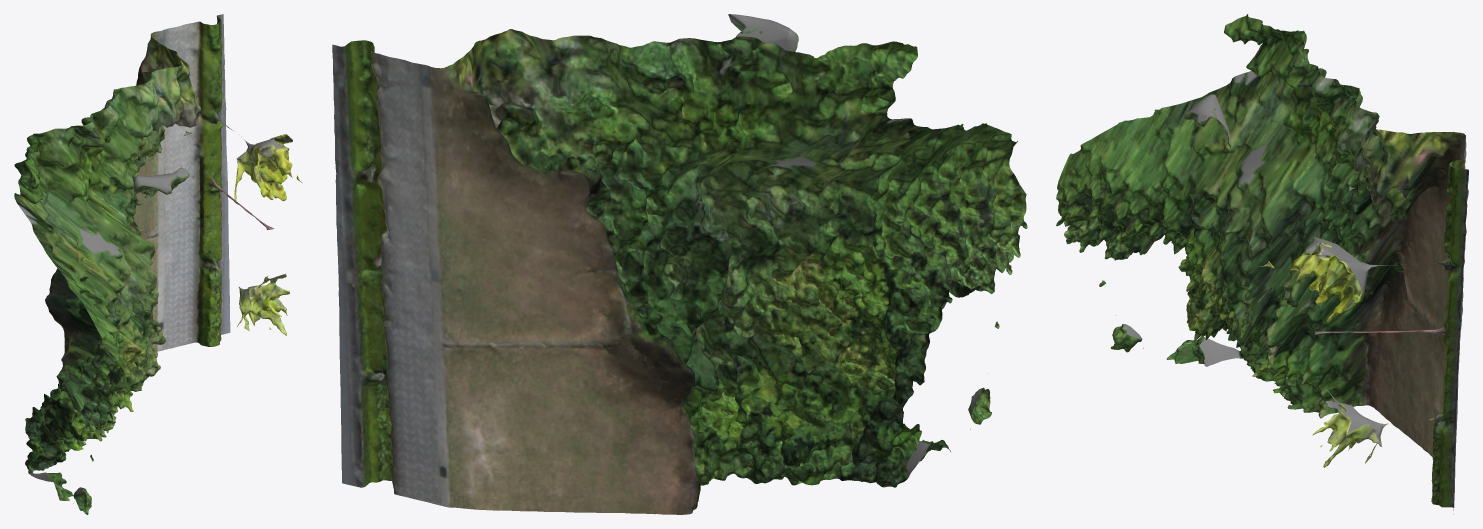
File: Tile_+011_+031.fbx
3 views of the same model, side by side, from view 1: azimuth 30°, elevation 25°; view 2: azimuth 150°, elevation 25°; view 3: azimuth 270°, elevation 25° (orthographic). The views are drawn at different scales.
Parts seen in each view (by area): view 1: DefaultName; view 2: DefaultName; view 3: DefaultName.
Part boxes in pixels (x1,y1,x2,y2): DefaultName: (14,14,302,514); DefaultName: (332,14,1027,514); DefaultName: (1056,14,1468,514).
Size of the model in its own units: 22.54 by 22.54 by 24.69.
